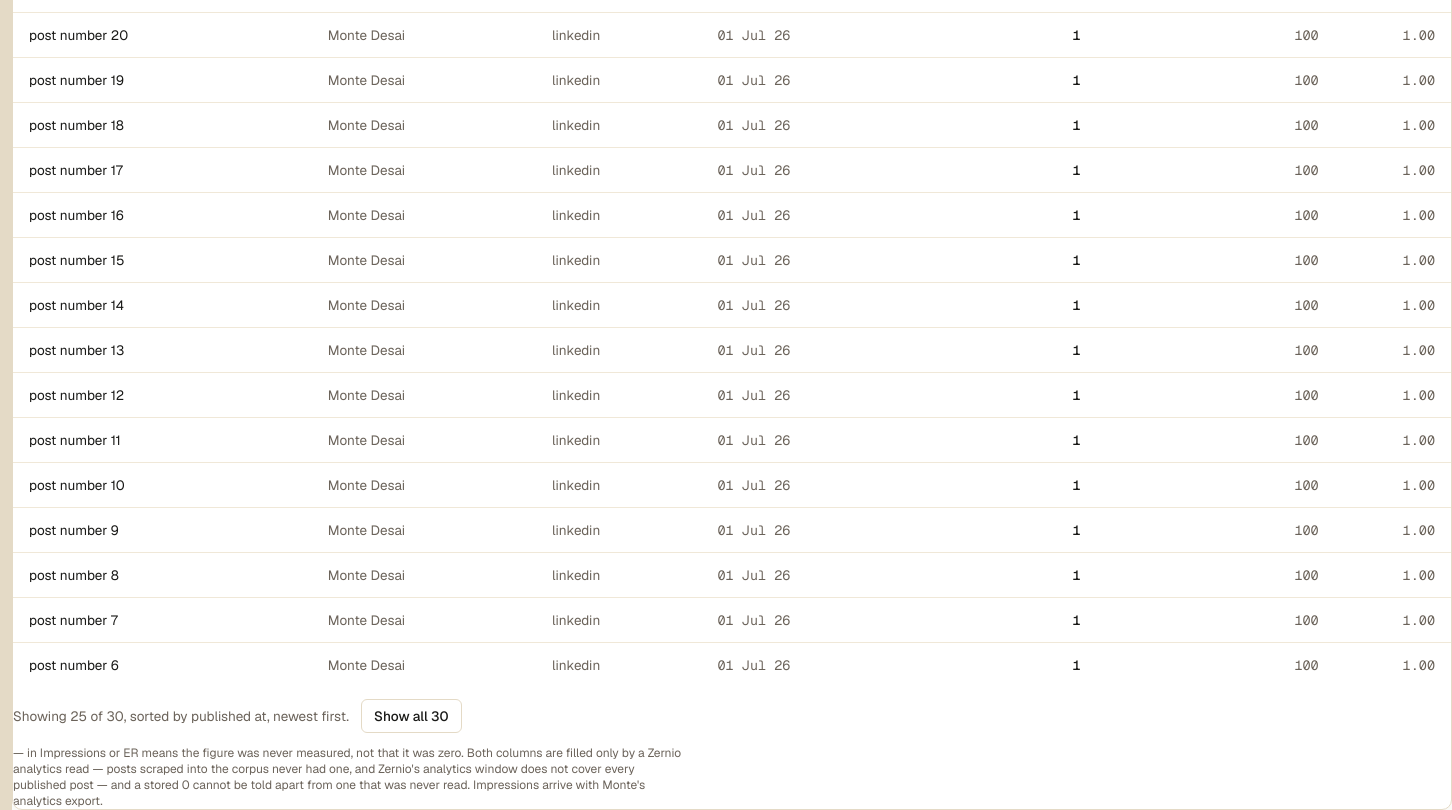
the bounded table › shows the rest on request
(page scrolled)
Click the button "Show all 30".
click(411, 716)  # box left=361, top=699, right=462, bottom=733
(page scrolled)
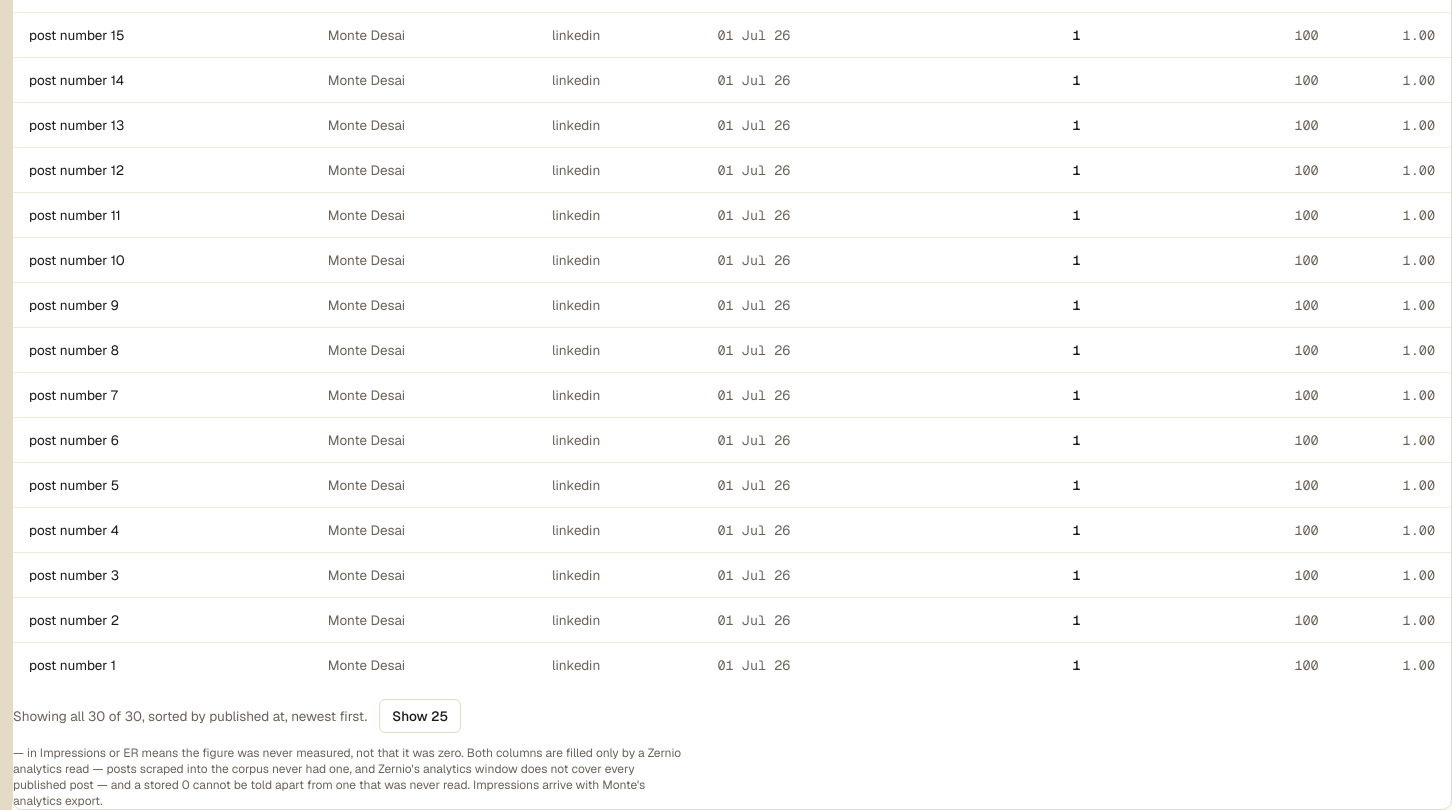
Now the text "Showing all 30 of 30, sorted by published at, newest first." is shown, box left=13, top=706, right=367, bottom=726
